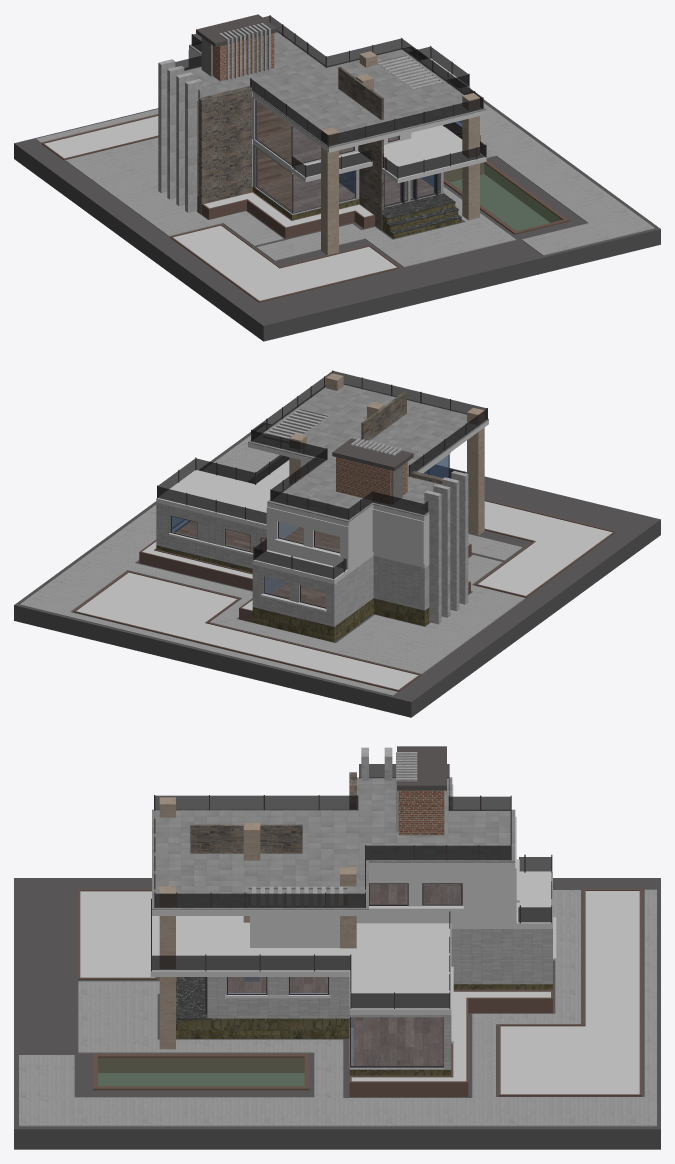
3 renders of one model, top to bottom at view 1: azimuth 30°, elevation 25°; view 2: azimuth 150°, elevation 25°; view 3: azimuth 270°, elevation 25°, orthographic. The views are drawn at different scales.
Visible parts, largest first — view 1: Rectangle002, Line017, Line021, Line013, Box060, Line020, Line004, Line007, Box061, Box001, Line022, Object001_03 - Default_0 (+23 smaller); view 2: Rectangle002, Line017, Line021, wall1, Line015, Line020, Line004, Line002, Line013, Line003, Line022, Box047 (+16 smaller); view 3: Line017, Rectangle002, Line021, Line004, Line015, wall1, Line020, Line002, Line013, Box001, Line007, Rectangle001 (+22 smaller).
Boxes of the visible parts, <box> form: Rectangle002: <box>14,46,660,341</box>; Line017: <box>35,48,654,267</box>; Line021: <box>184,31,486,148</box>; Line013: <box>173,225,396,300</box>; Box060: <box>198,86,251,214</box>; Line020: <box>175,16,482,146</box>; Line004: <box>197,58,486,183</box>; Line007: <box>258,123,461,212</box>; Box061: <box>338,66,383,230</box>; Box001: <box>444,163,561,230</box>; Line022: <box>292,46,485,178</box>; Object001_03 - Default_0: <box>257,149,354,212</box>; Rectangle002: <box>14,423,660,717</box>; Line017: <box>19,425,525,695</box>; Line021: <box>248,384,488,522</box>; wall1: <box>156,502,429,626</box>; Line015: <box>76,572,418,689</box>; Line020: <box>252,371,487,519</box>; Line004: <box>156,460,429,584</box>; Line002: <box>266,452,450,569</box>; Line013: <box>478,501,612,595</box>; Line003: <box>156,545,429,642</box>; Line022: <box>157,455,463,524</box>; Box047: <box>336,457,407,504</box>; Line017: <box>19,889,656,1126</box>; Rectangle002: <box>14,878,660,1149</box>; Line021: <box>152,777,515,910</box>; Line004: <box>150,872,552,1014</box>; Line015: <box>500,891,639,1094</box>; wall1: <box>207,929,552,1069</box>; Line020: <box>154,764,511,907</box>; Line002: <box>250,784,516,947</box>; Line013: <box>80,891,155,977</box>; Box001: <box>98,1058,304,1086</box>; Line007: <box>228,977,443,1065</box>; Rectangle001: <box>93,1054,309,1090</box>.
Size of the model in its own units: 29.26 by 11.76 by 31.83.
